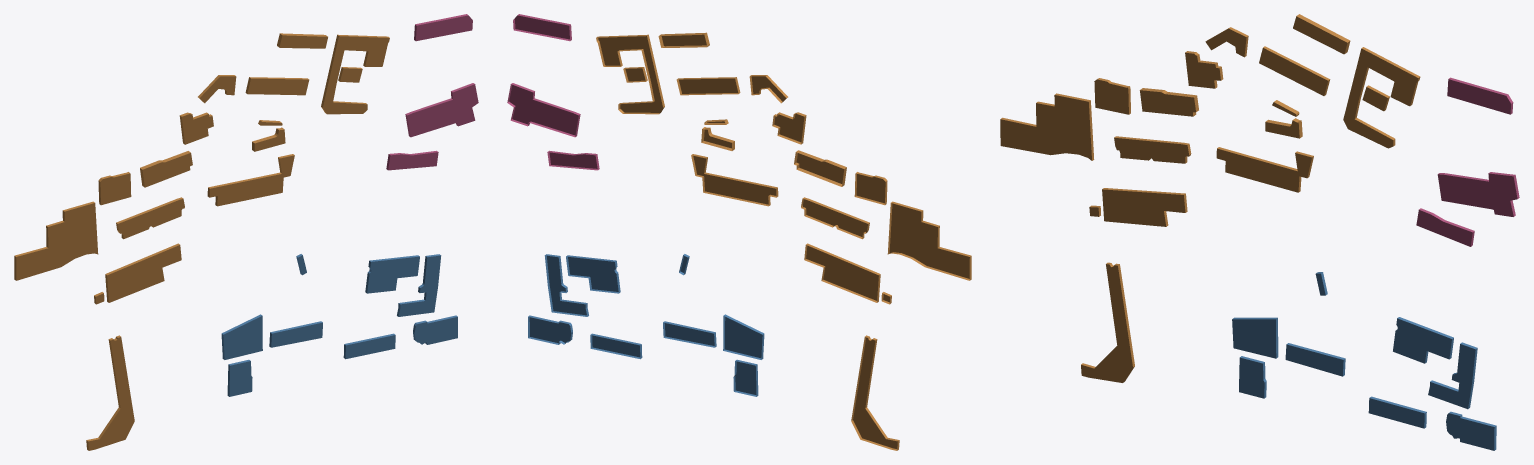
File: buildings_k29.obj
The picture shows the model from 3 angles, left to right: view 1: azimuth 30°, elevation 25°; view 2: azimuth 150°, elevation 25°; view 3: azimuth 330°, elevation 25°; orthographic projection. The views are drawn at different scales.
Visible parts, largest first — view 1: roof2, roof4, roof1, zone2, zone4, zone1; view 2: roof2, zone2, roof4, roof1, zone4, zone1; view 3: roof2, roof4, roof1, zone2, zone4, zone1.
Boxes of the visible parts, <box> form: roof2: <box>16,35,389,450</box>; roof4: <box>223,255,457,396</box>; roof1: <box>388,15,478,170</box>; zone2: <box>14,33,389,450</box>; zone4: <box>221,254,457,396</box>; zone1: <box>386,14,474,169</box>; roof2: <box>598,34,969,448</box>; zone2: <box>596,32,971,450</box>; roof4: <box>529,255,762,395</box>; roof1: <box>509,15,597,168</box>; zone4: <box>528,254,764,396</box>; zone1: <box>507,14,599,170</box>; roof2: <box>1000,16,1418,382</box>; roof4: <box>1232,273,1494,450</box>; roof1: <box>1416,79,1517,246</box>; zone2: <box>1000,14,1420,382</box>; zone4: <box>1232,272,1496,450</box>; zone1: <box>1419,77,1519,246</box>.
Bounding box in the file's own units: 621 × 474 × 6.26.
